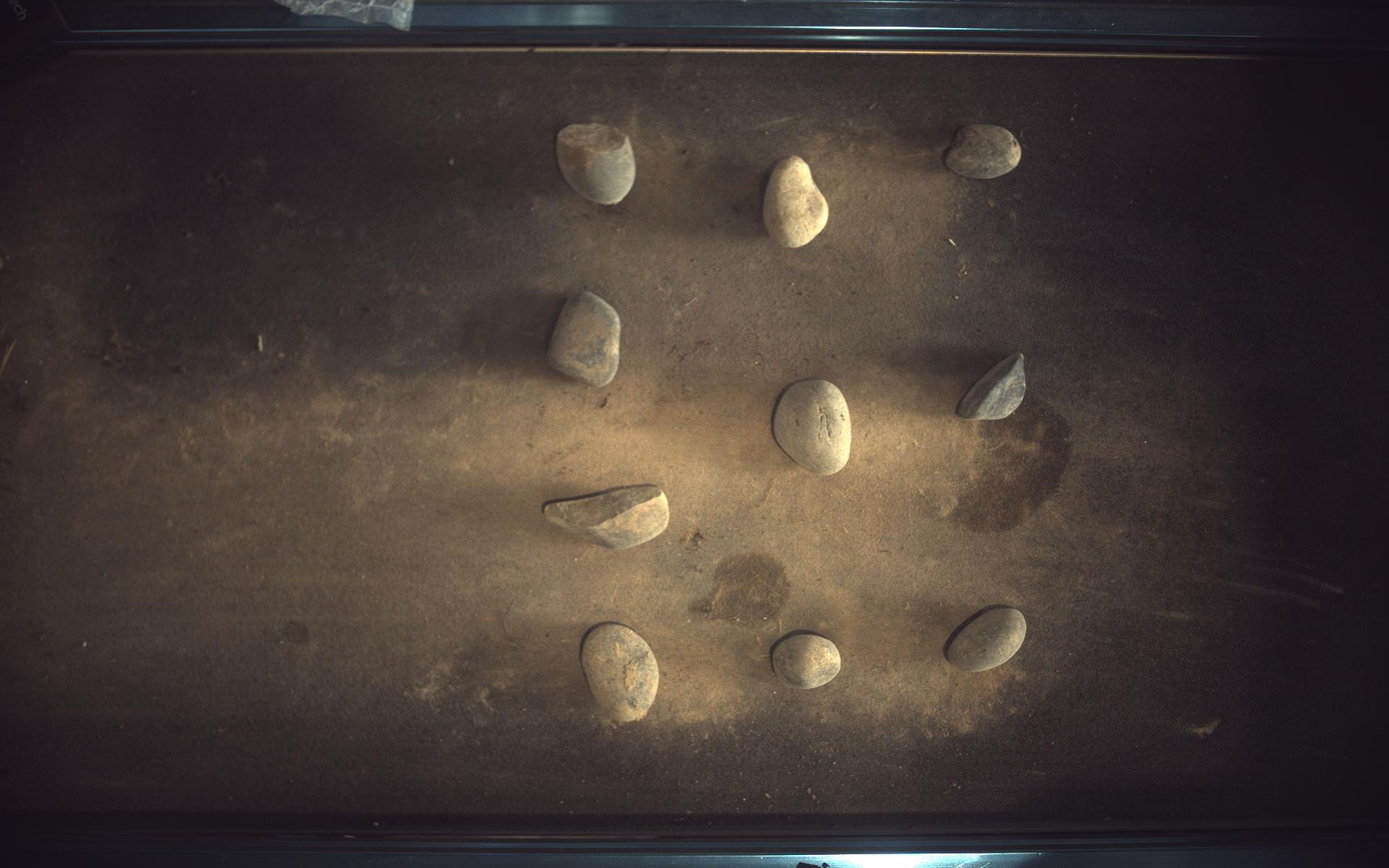stone: (543, 484, 671, 550), (581, 624, 660, 723), (774, 380, 853, 475), (547, 289, 621, 387), (556, 122, 637, 204), (764, 155, 831, 247), (948, 608, 1029, 673), (959, 352, 1027, 420), (947, 123, 1023, 179), (773, 634, 843, 690)
